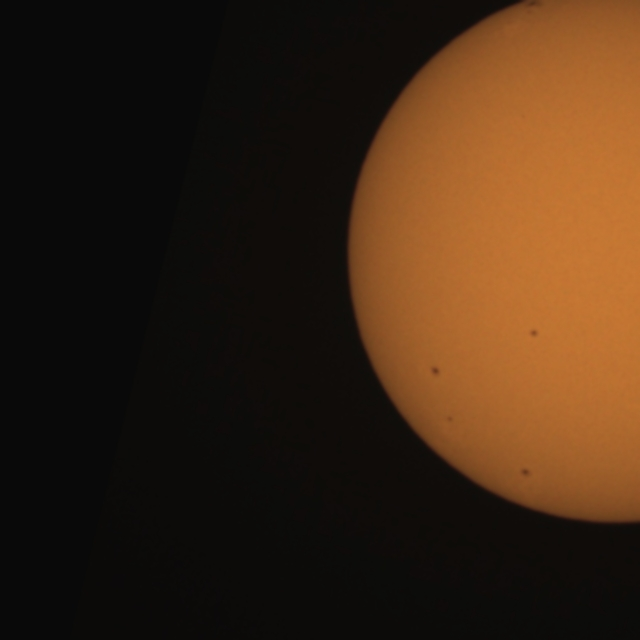sunspot: (429, 364, 442, 378), (520, 466, 532, 479), (528, 328, 540, 340), (445, 414, 454, 424)
